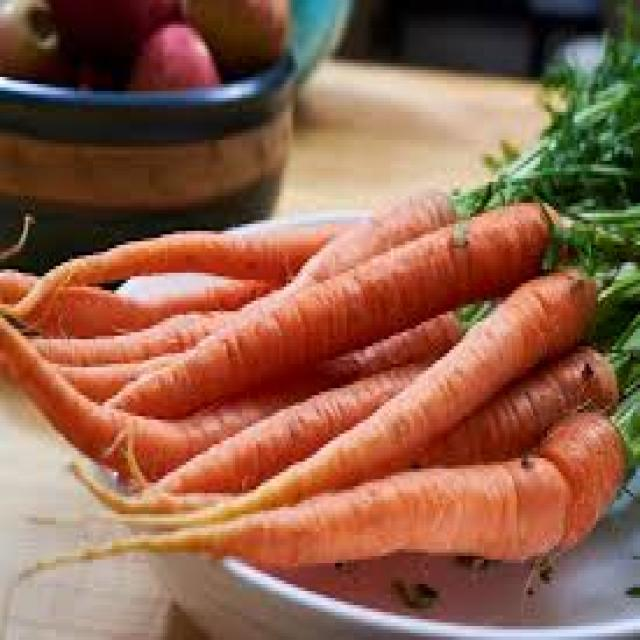Fresh_Carrot: (48, 236, 579, 551)
